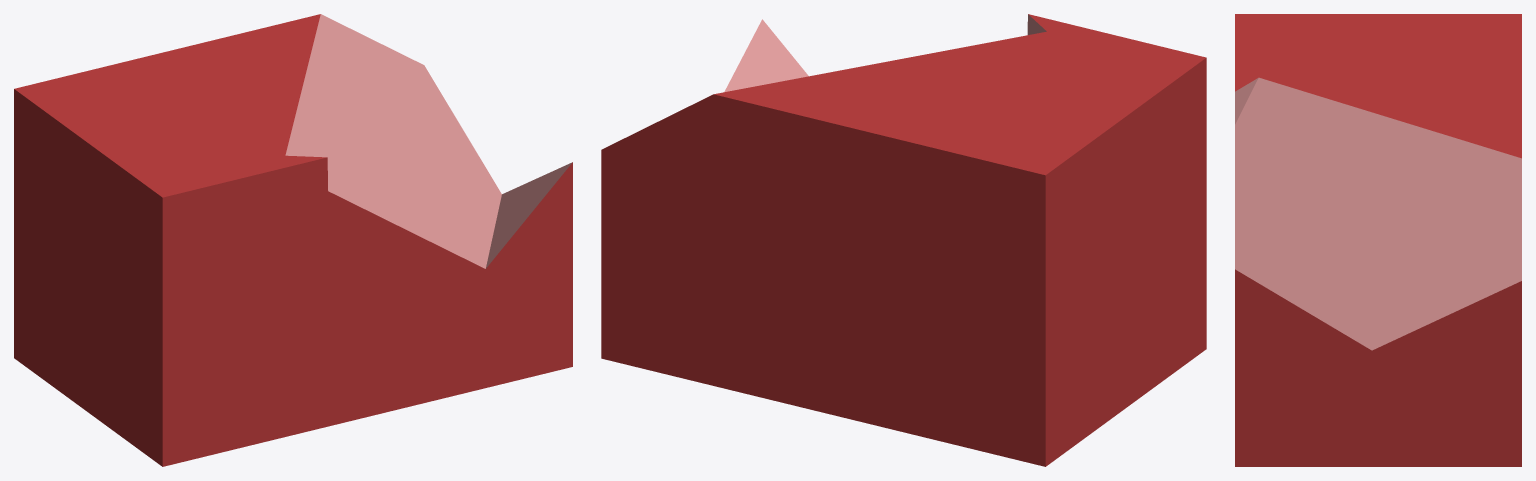
The picture shows the model from 3 angles, left to right: view 1: azimuth 30°, elevation 25°; view 2: azimuth 150°, elevation 25°; view 3: azimuth 270°, elevation 25°; orthographic projection. The views are drawn at different scales.
Visible parts, largest first — view 1: base; view 2: base; view 3: base.
Boxes of the visible parts, x1,y1,x2,y2 form: base: (14, 14, 572, 466); base: (601, 14, 1206, 466); base: (1235, 14, 1521, 466).
Bounding box in the file's own units: 92.98 × 58.33 × 58.33.
